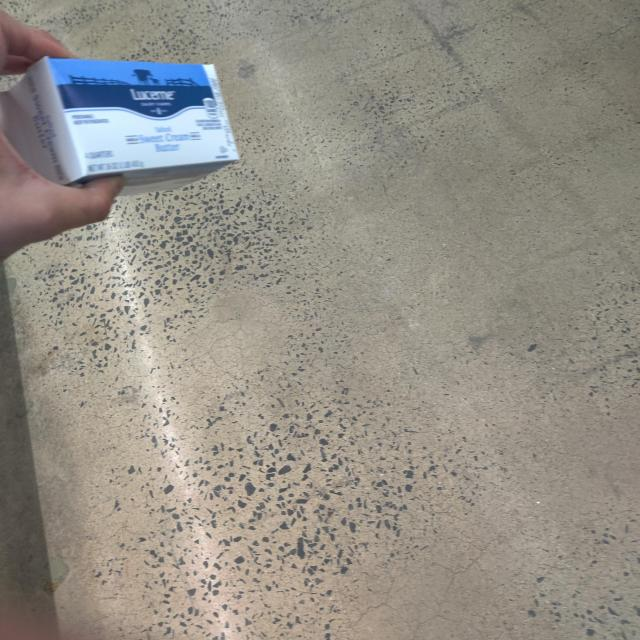Butter: (9, 60, 246, 194)
